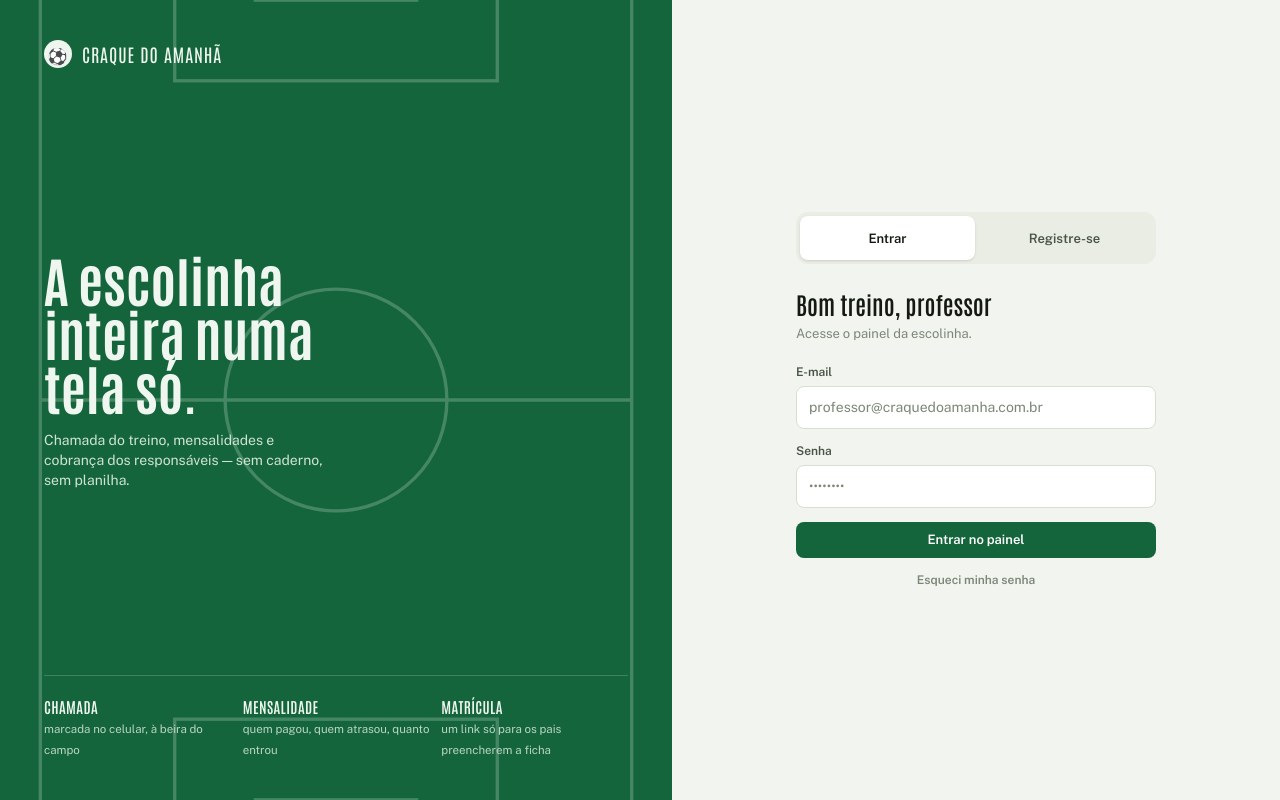
Test case: login › a aba de cadastro pede o nome da escolinha
What coordinates should you click on to do the following:
click the tab "Registre-se"
I would click on:
 (1064, 238)
Its box is [977,216,1152,260].
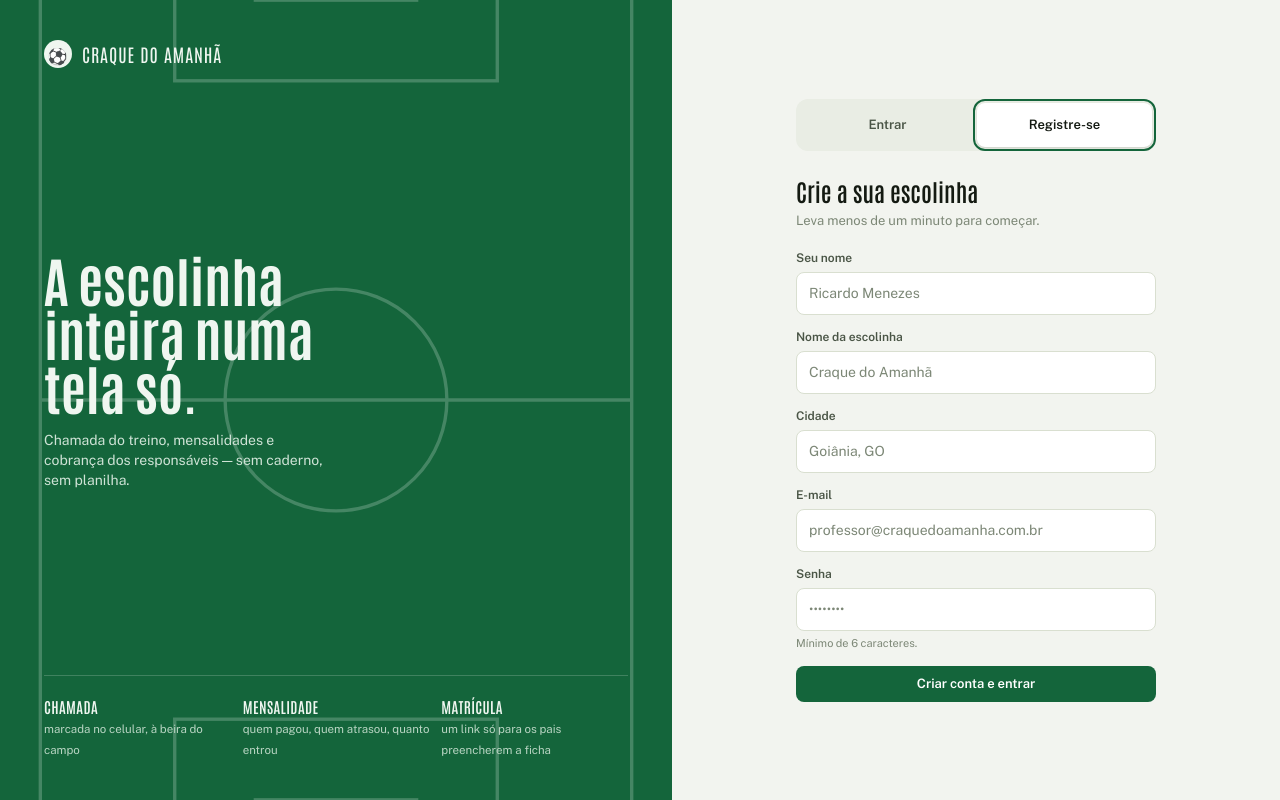
expect the field labelled "Nome da escolinha" is shown: met, box [796,351,1156,394]
expect the button "Criar conta e entrar" is shown: met, box [796,666,1156,702]
